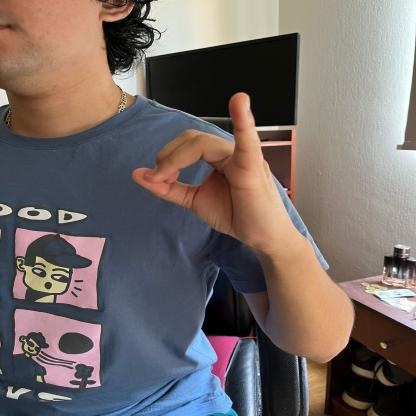D: (131, 85, 290, 244)
